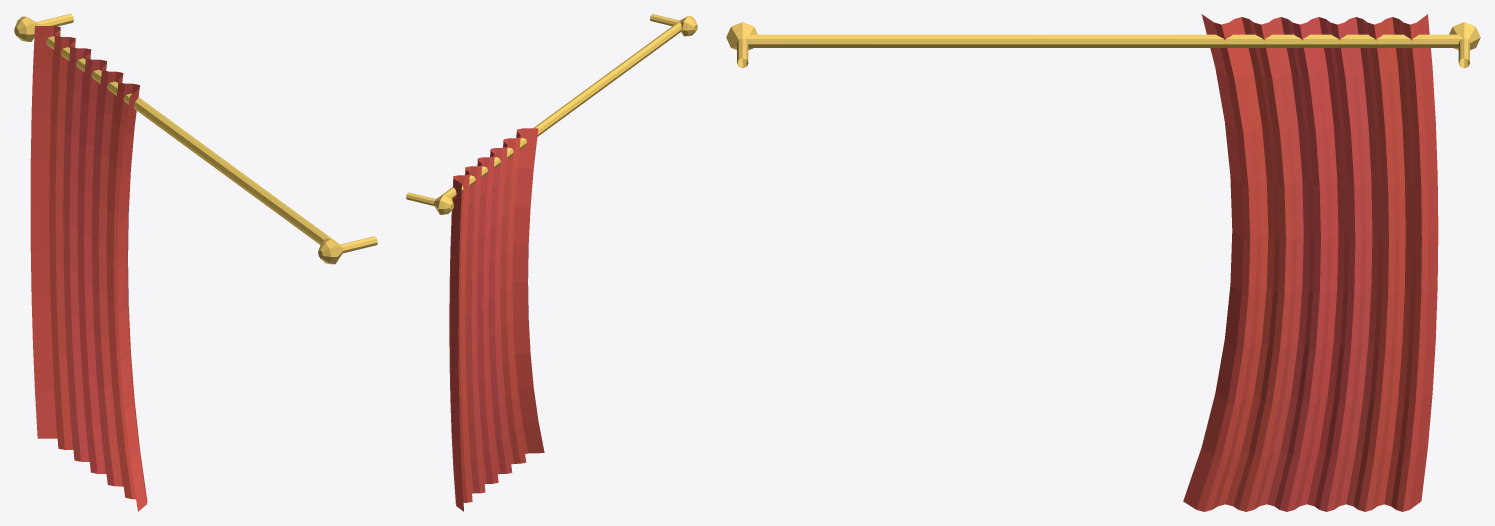
Rendered from gardina_open.fbx.
3 renders of one model, left to right at view 1: azimuth 30°, elevation 25°; view 2: azimuth 150°, elevation 25°; view 3: azimuth 270°, elevation 25°, orthographic. The views are drawn at different scales.
Parts seen in each view (by area): view 1: Cube.002, Cube.009; view 2: Cube.002, Cube.009; view 3: Cube.002, Cube.009.
Part boxes in pixels (x1,y1,x2,y2): Cube.002: [30, 26, 147, 511]; Cube.009: [14, 14, 377, 264]; Cube.002: [449, 128, 544, 511]; Cube.009: [406, 14, 697, 214]; Cube.002: [1183, 14, 1438, 511]; Cube.009: [726, 22, 1480, 68].
Bounding box in the file's own units: 83.51 × 596 × 836.
